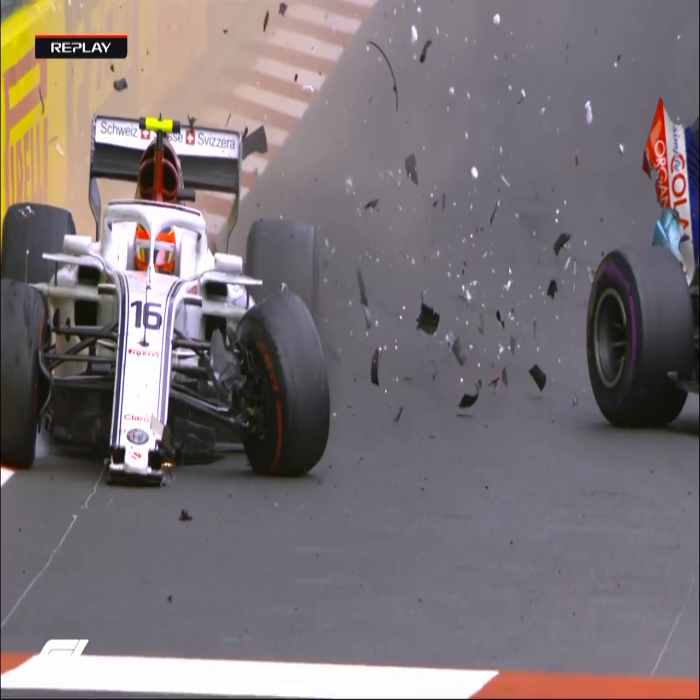f1_car: (4, 101, 360, 494)
